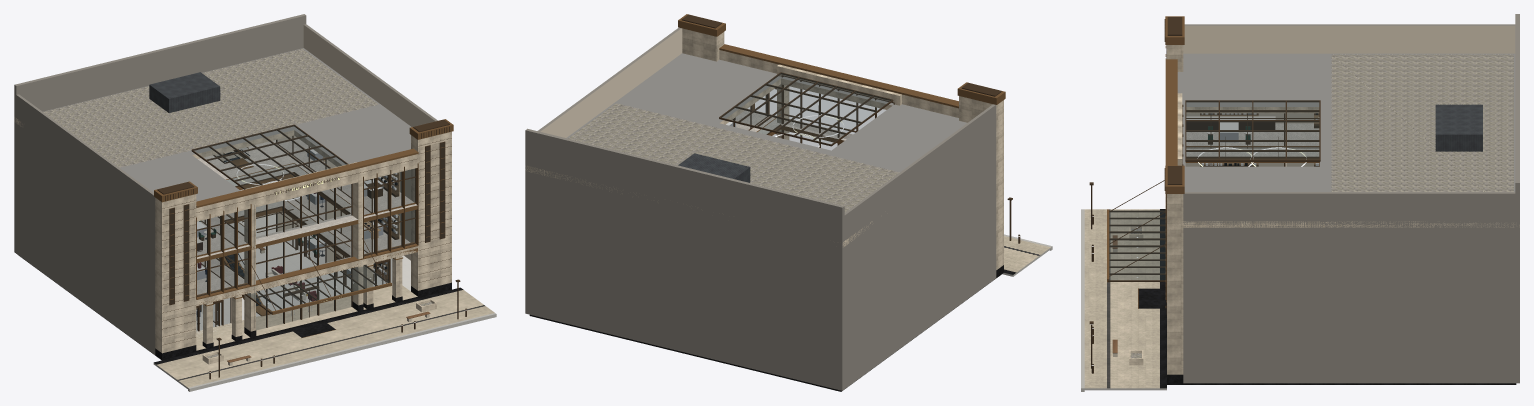
The model's file is the_promenade_galleria.glb.
3 renders of one model, left to right at view 1: azimuth 30°, elevation 25°; view 2: azimuth 150°, elevation 25°; view 3: azimuth 270°, elevation 25°, orthographic. The views are drawn at different scales.
Parts seen in each view (by area): view 1: B05_LOD0_BUILDING_EXTERIOR_Stone, B05_LOD0_BUILDING_EXTERIOR_Roof, B05_SIDEWALK_FRONTAGE_Paving, B05_LOD0_BUILDING_EXTERIOR_RearInterface, B05_LOD0_BUILDING_INTERIOR_L2Slab, B05_LOD0_BUILDING_INTERIOR_GroundSlab, B05_LOD0_FACADE_DETAILS_Bronze, B05_LOD0_FACADE_DETAILS_Canopy, B05_LOD0_BUILDING_INTERIOR_L1Slab, B05_SIDEWALK_FRONTAGE_ArcadePaving, B05_LOD0_GLASS_SYSTEM_TowerSlots, B05_LOD0_GLASS_SYSTEM_Skylight (+11 smaller); view 2: B05_LOD0_BUILDING_EXTERIOR_Stone, B05_LOD0_BUILDING_EXTERIOR_Roof, B05_LOD0_BUILDING_EXTERIOR_RearInterface, B05_LOD0_FACADE_DETAILS_Bronze, B05_LOD0_GLASS_SYSTEM_Skylight, B05_LOD0_BUILDING_INTERIOR_L2Slab, B05_SIDEWALK_FRONTAGE_Paving, B05_LOD0_GLASS_SYSTEM_PortalFrame, B05_LOD0_BUILDING_INTERIOR_GroundSlab; view 3: B05_LOD0_BUILDING_EXTERIOR_Stone, B05_LOD0_BUILDING_EXTERIOR_Roof, B05_SIDEWALK_FRONTAGE_Paving, B05_LOD0_FACADE_DETAILS_Canopy, B05_LOD0_BUILDING_INTERIOR_L2Slab, B05_LOD0_GLASS_SYSTEM_Skylight, B05_LOD0_FACADE_DETAILS_Bronze, B05_LOD0_BUILDING_EXTERIOR_RearInterface, B05_LOD0_FURNITURE_Shops, B05_LOD0_BUILDING_INTERIOR_GroundSlab, B05_LOD1_FURNITURE_Shops, B05_LOD0_DISPLAY_OBJECTS_Merch (+3 smaller).
Boxes of the visible parts, x1,y1,x2,y2 form: B05_LOD0_BUILDING_EXTERIOR_Stone: (14, 24, 451, 360); B05_LOD0_BUILDING_EXTERIOR_Roof: (14, 48, 451, 229); B05_SIDEWALK_FRONTAGE_Paving: (153, 287, 496, 391); B05_LOD0_BUILDING_EXTERIOR_RearInterface: (14, 14, 306, 253); B05_LOD0_BUILDING_INTERIOR_L2Slab: (197, 139, 417, 262); B05_LOD0_BUILDING_INTERIOR_GroundSlab: (24, 213, 420, 357); B05_LOD0_FACADE_DETAILS_Bronze: (154, 119, 453, 299); B05_LOD0_FACADE_DETAILS_Canopy: (244, 238, 391, 314); B05_LOD0_BUILDING_INTERIOR_L1Slab: (197, 181, 417, 304); B05_SIDEWALK_FRONTAGE_ArcadePaving: (196, 284, 417, 351); B05_LOD0_GLASS_SYSTEM_TowerSlots: (169, 141, 445, 305); B05_LOD0_GLASS_SYSTEM_Skylight: (191, 124, 348, 189); B05_LOD0_BUILDING_EXTERIOR_Stone: (525, 27, 1003, 390); B05_LOD0_BUILDING_EXTERIOR_Roof: (525, 53, 1003, 247); B05_LOD0_BUILDING_EXTERIOR_RearInterface: (525, 128, 844, 390); B05_LOD0_FACADE_DETAILS_Bronze: (678, 14, 1005, 108); B05_LOD0_GLASS_SYSTEM_Skylight: (719, 72, 893, 146); B05_LOD0_BUILDING_INTERIOR_L2Slab: (735, 109, 852, 143); B05_SIDEWALK_FRONTAGE_Paving: (1002, 234, 1052, 276); B05_LOD0_GLASS_SYSTEM_PortalFrame: (781, 75, 894, 147); B05_LOD0_BUILDING_INTERIOR_GroundSlab: (529, 275, 1000, 391); B05_LOD0_BUILDING_EXTERIOR_Stone: (1166, 24, 1519, 383); B05_LOD0_BUILDING_EXTERIOR_Roof: (1167, 53, 1519, 227); B05_SIDEWALK_FRONTAGE_Paving: (1081, 209, 1166, 391); B05_LOD0_FACADE_DETAILS_Canopy: (1107, 180, 1165, 282); B05_LOD0_BUILDING_INTERIOR_L2Slab: (1185, 123, 1319, 162); B05_LOD0_GLASS_SYSTEM_Skylight: (1185, 100, 1320, 161); B05_LOD0_FACADE_DETAILS_Bronze: (1164, 16, 1184, 300); B05_LOD0_BUILDING_EXTERIOR_RearInterface: (1515, 14, 1519, 303); B05_LOD0_FURNITURE_Shops: (1186, 116, 1275, 143); B05_LOD0_BUILDING_INTERIOR_GroundSlab: (1167, 383, 1516, 384); B05_LOD1_FURNITURE_Shops: (1186, 116, 1275, 144); B05_LOD0_DISPLAY_OBJECTS_Merch: (1200, 113, 1319, 166).
Size of what is drawn, in the model's own units: 36 by 19.13 by 37.3.
Materials: 51 (10 with a texture image).
